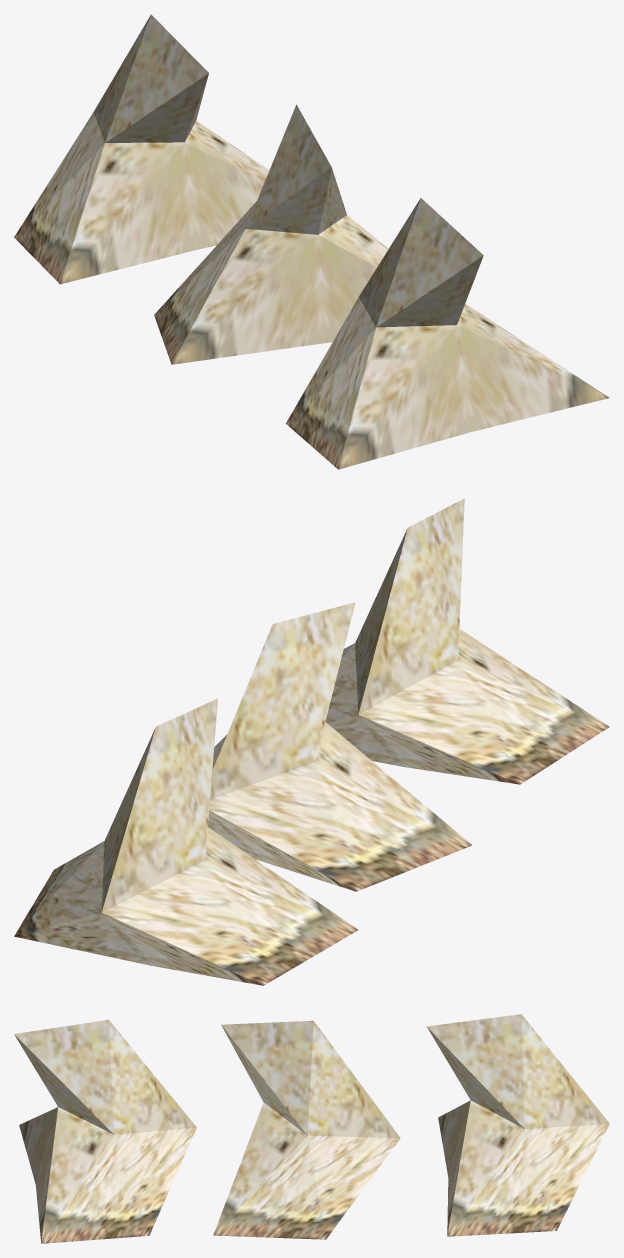
The model's file is poi_tato_skel_grtr_krayt_spine_s02_l1.fbx.
The picture shows the model from 3 angles, top to bottom: view 1: azimuth 30°, elevation 25°; view 2: azimuth 150°, elevation 25°; view 3: azimuth 270°, elevation 25°; orthographic projection. The views are drawn at different scales.
Parts seen in each view (by area): view 1: mesh_node; view 2: mesh_node; view 3: mesh_node.
Boxes of the visible parts, x1,y1,x2,y2 form: mesh_node: (14, 14, 609, 469); mesh_node: (14, 498, 609, 985); mesh_node: (14, 1014, 609, 1243).
Size of the model in its own units: 1.9 by 1.34 by 4.
1 material, 1 textured.
